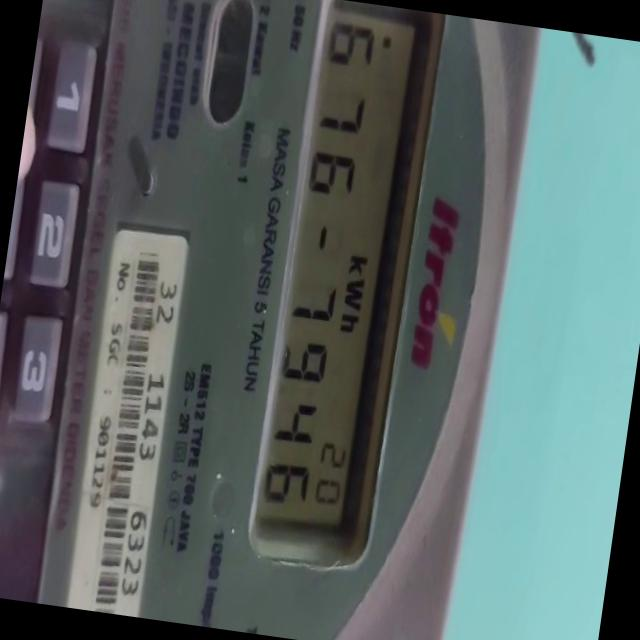LCD: (240, 0, 433, 567)
